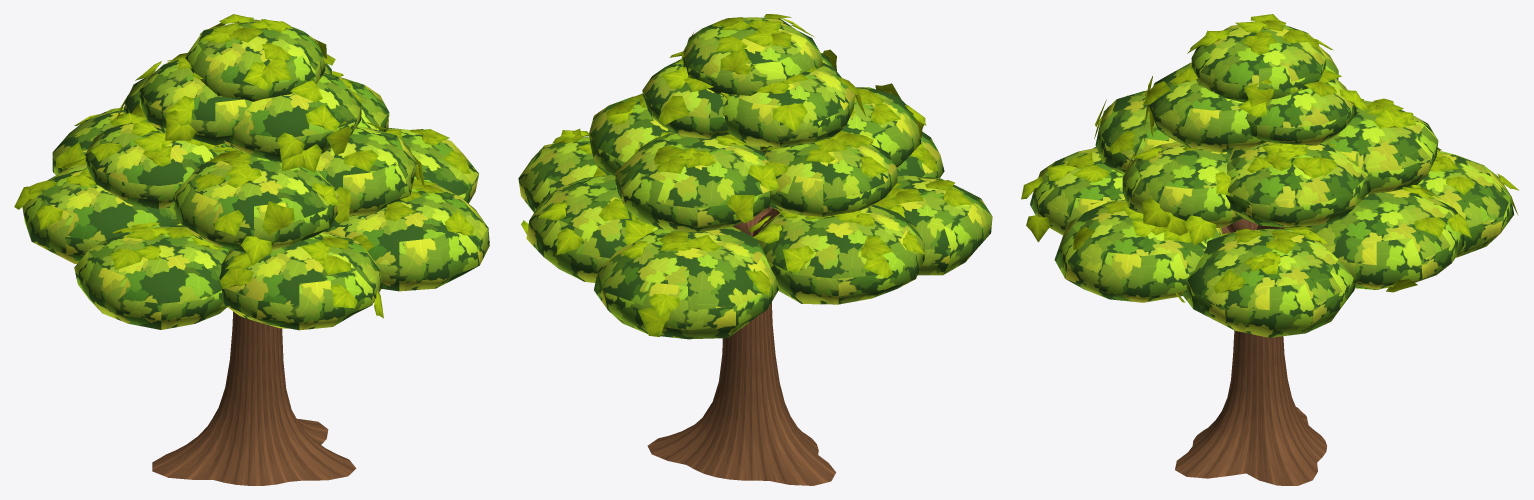
File: tree.glb
3 renders of one model, left to right at view 1: azimuth 30°, elevation 25°; view 2: azimuth 150°, elevation 25°; view 3: azimuth 270°, elevation 25°, orthographic. The views are drawn at different scales.
Parts seen in each view (by area): view 1: model; view 2: model; view 3: model.
Boxes of the visible parts, left/top/right/bottom form: model: left=14, top=14, right=489, bottom=485; model: left=518, top=14, right=992, bottom=485; model: left=1021, top=14, right=1519, bottom=485.
Bounding box in the file's own units: 6.27 × 6.27 × 6.81.
3 materials, 3 textured.
